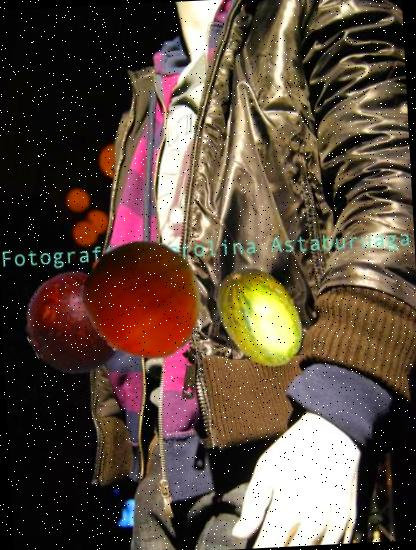Mangostan: (21, 252, 152, 383)
Melon: (206, 257, 320, 371)
Nut: (82, 236, 208, 362)
